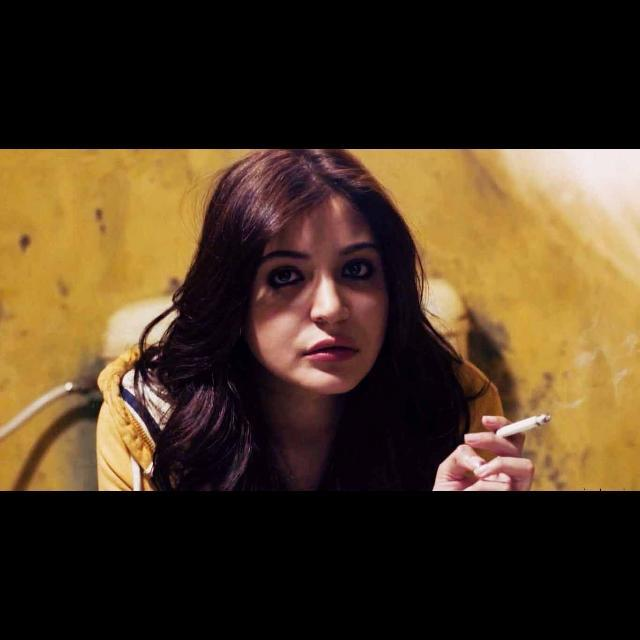rokok: (488, 413, 552, 443)
